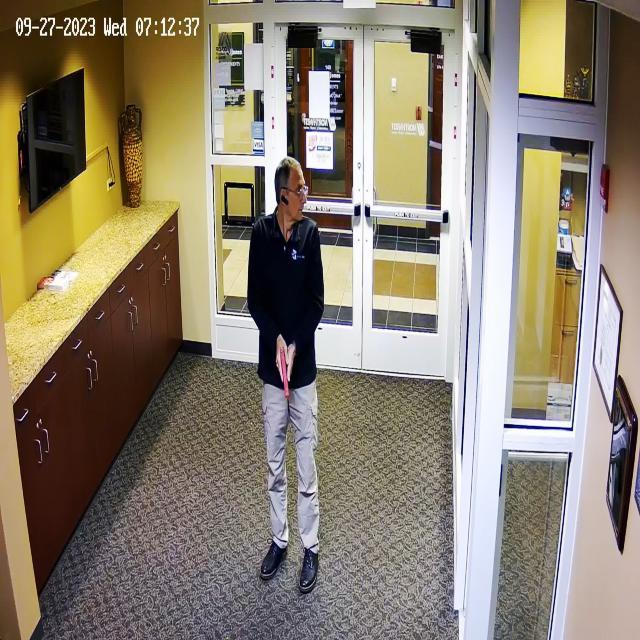Gun: (263, 337, 300, 402)
